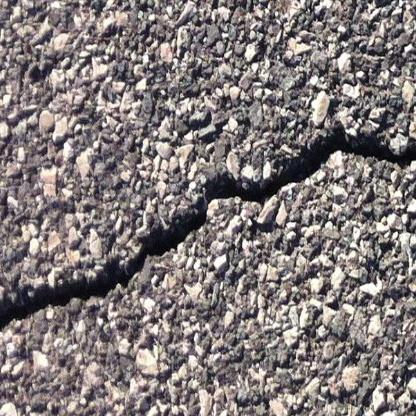Cracks: (0, 119, 416, 356)
